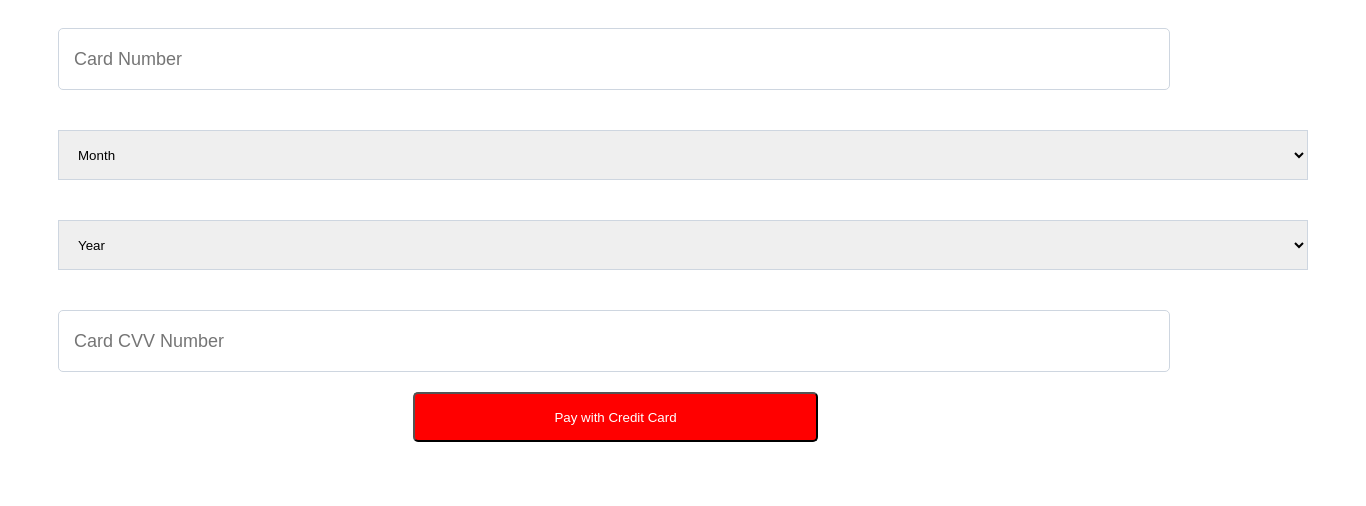
Credit Cart Component Tests › Should show card number must be 16 digits not letters error message when Pay With Credit Card button clicked
The width and height of the screenshot is (1366, 506).
Type "12345678A9876543" into the field with id "cardNumber".
click(614, 59); type("12345678A9876543")  # box [58,28,1170,90]
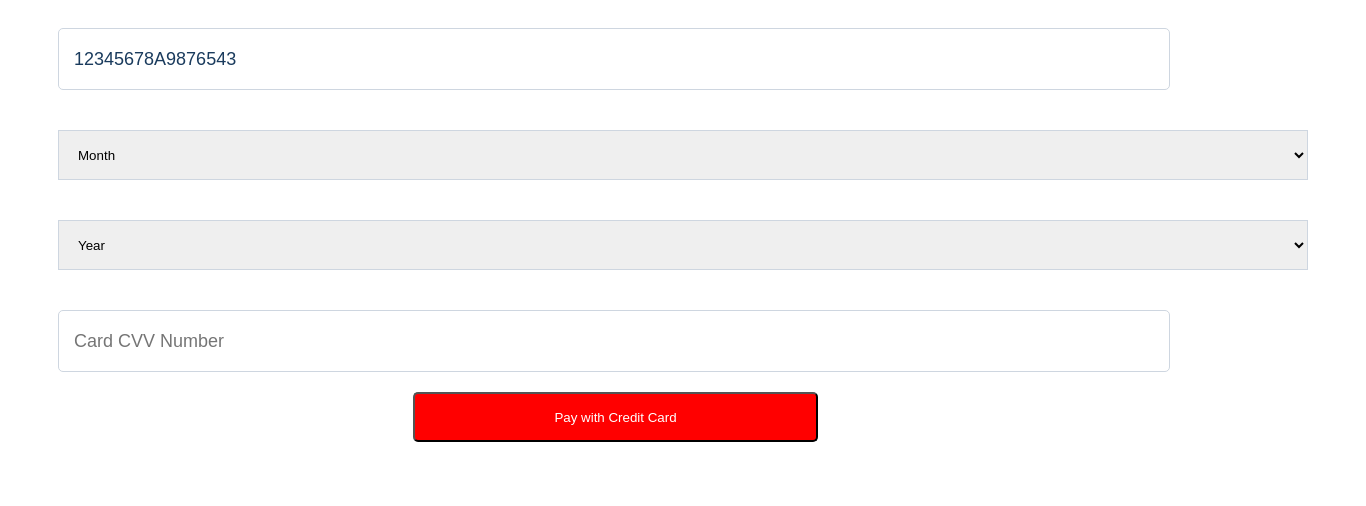
Type "123" into the field with id "cardCVV".
click(614, 341); type("123")  # box [58,310,1170,372]
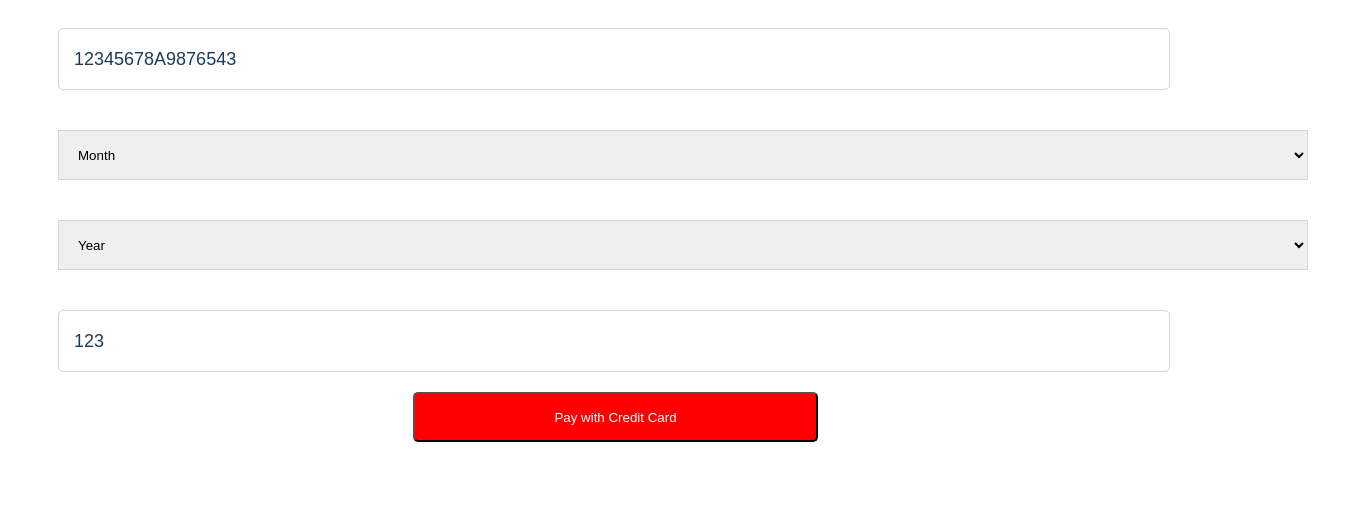
Select "01" in the dropdown with id "cardMonth" at (683, 155), box [58,130,1308,180]
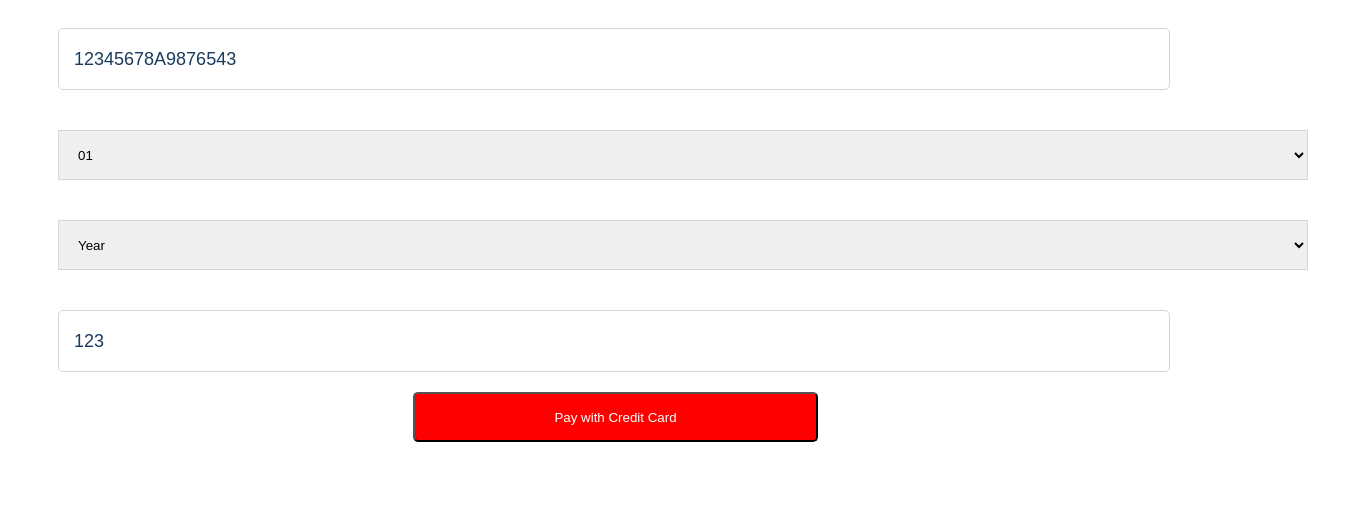
Select "2021" in the dropdown with id "cardYear" at (683, 245), box [58,220,1308,270]
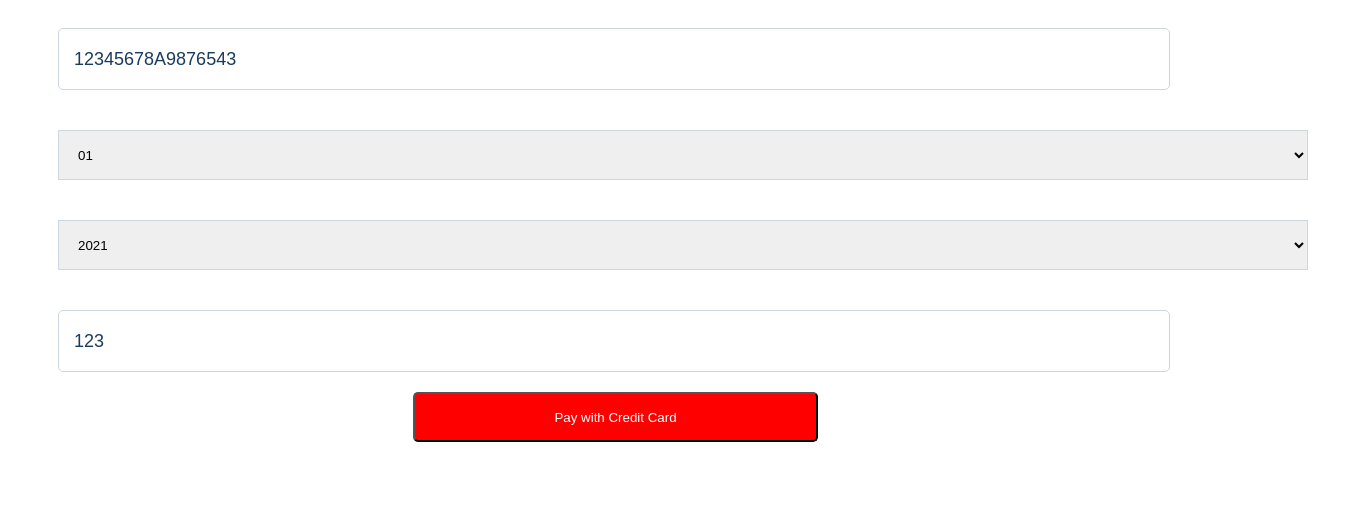
Click the button "Pay with Credit Card".
click(616, 417)  # box [413,392,818,442]
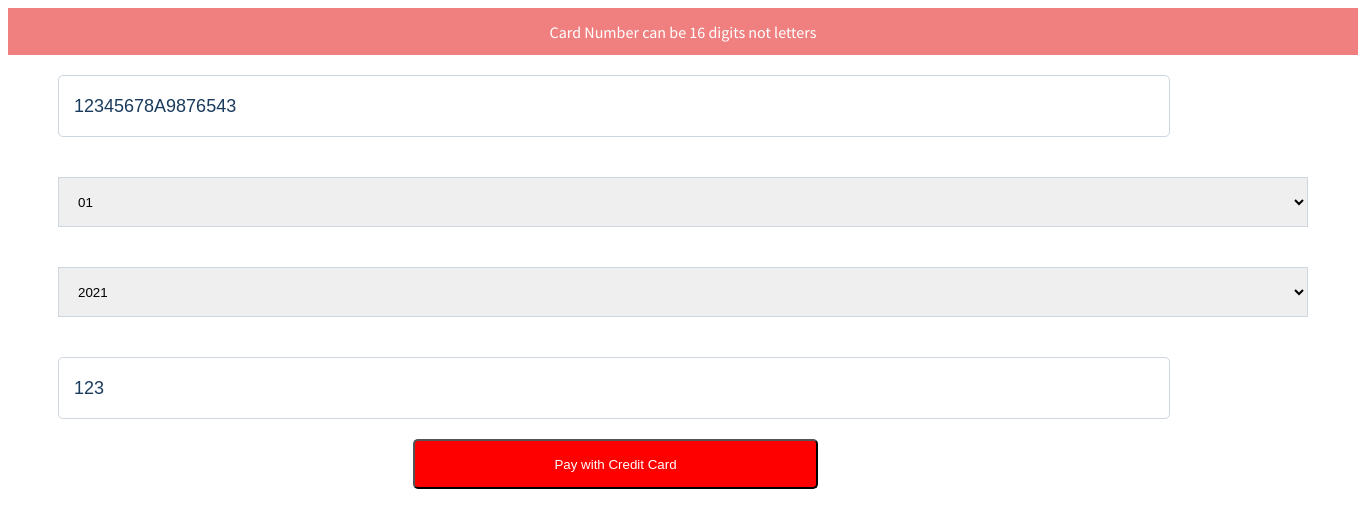
Check: the text with id "errorSide" reads "Card Number can be 16 digits not letters", box [550,22,816,42]
